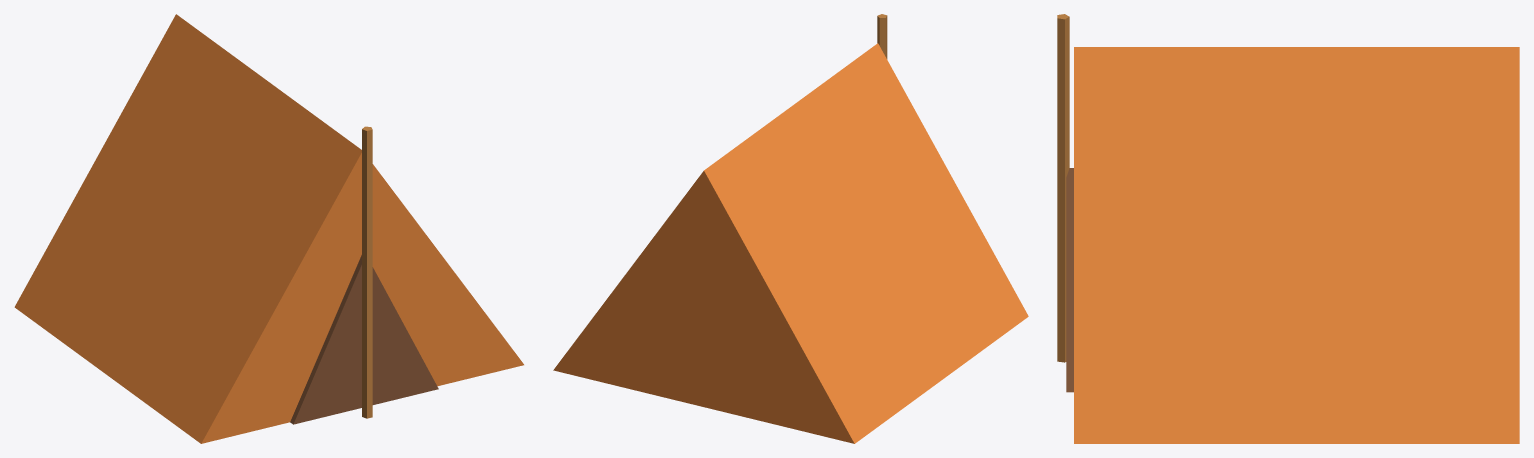
File: Tent.fbx
The picture shows the model from 3 angles, left to right: view 1: azimuth 30°, elevation 25°; view 2: azimuth 150°, elevation 25°; view 3: azimuth 270°, elevation 25°; orthographic projection. The views are drawn at different scales.
Visible parts, largest first — view 1: Tent; view 2: Tent; view 3: Tent.
Part boxes in pixels (x1=…): Tent: x1=14, y1=14, x2=523, y2=443; Tent: x1=553, y1=14, x2=1028, y2=443; Tent: x1=1057, y1=14, x2=1519, y2=443.
Bounding box in the file's own units: 4 × 3.4 × 4.15.
Materials: 1 (1 with a texture image).
